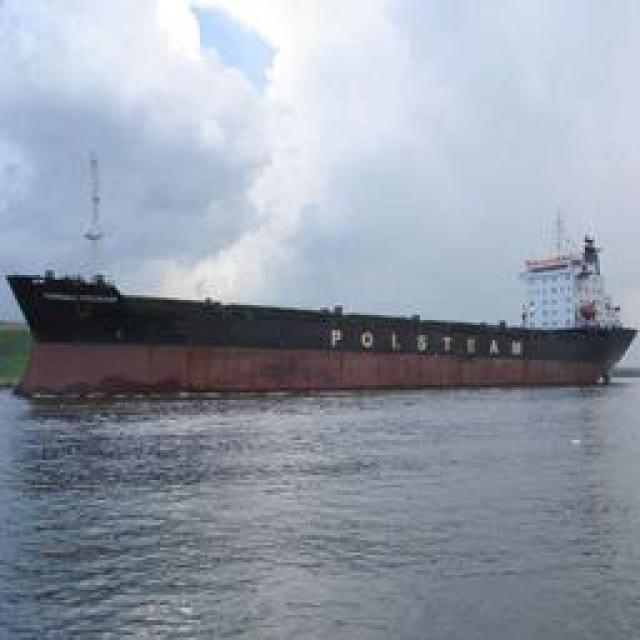Ship: (7, 236, 635, 404)
